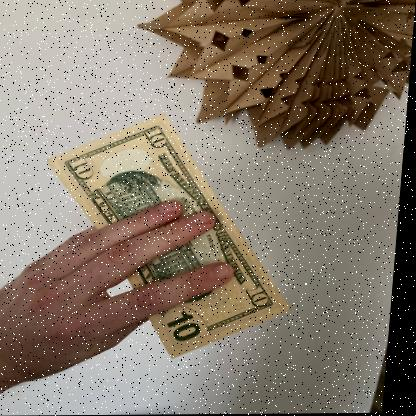ten-back: (47, 111, 292, 360)
